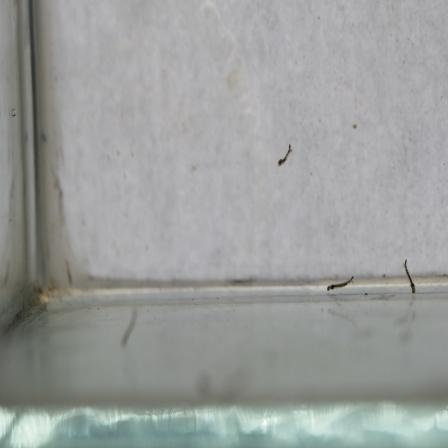Jentik-Nyamuk: (322, 271, 358, 297), (400, 256, 418, 298), (273, 139, 295, 172)
